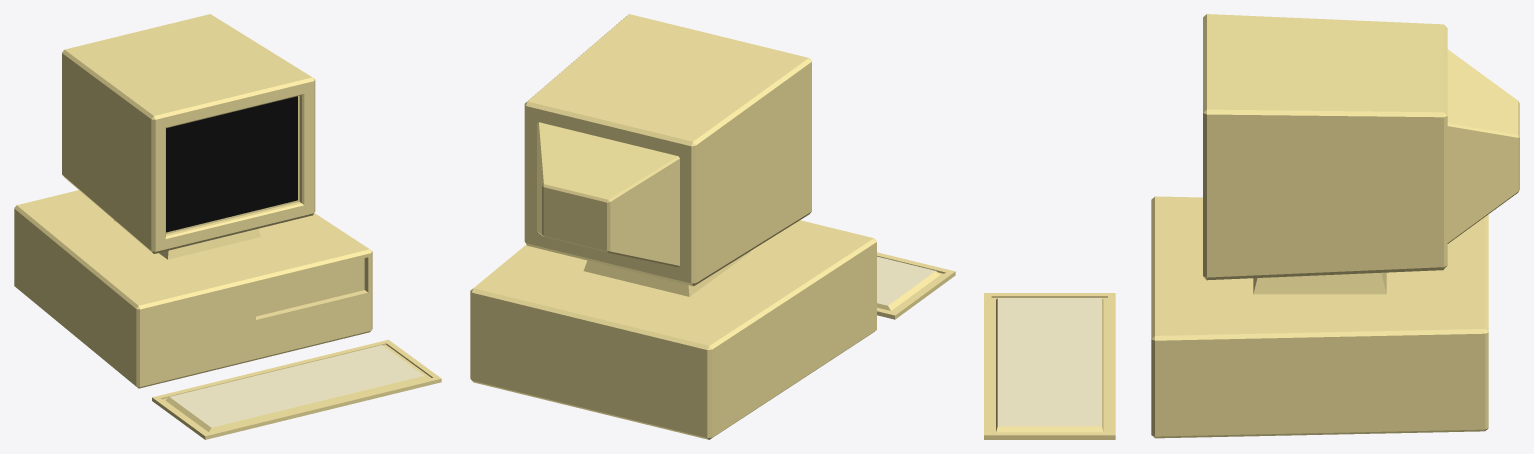
The model's file is green_light_district.glb.
The picture shows the model from 3 angles, left to right: view 1: azimuth 30°, elevation 25°; view 2: azimuth 150°, elevation 25°; view 3: azimuth 270°, elevation 25°; orthographic projection. The views are drawn at different scales.
Visible parts, largest first — view 1: Cube; view 2: Cube; view 3: Cube.
Part boxes in pixels (left/top/right/bottom): Cube: left=14, top=14, right=441, bottom=439; Cube: left=470, top=14, right=955, bottom=439; Cube: left=984, top=14, right=1519, bottom=439.
Bounding box in the file's own units: 2 × 2.01 × 3.18.
1 material, 1 textured.
